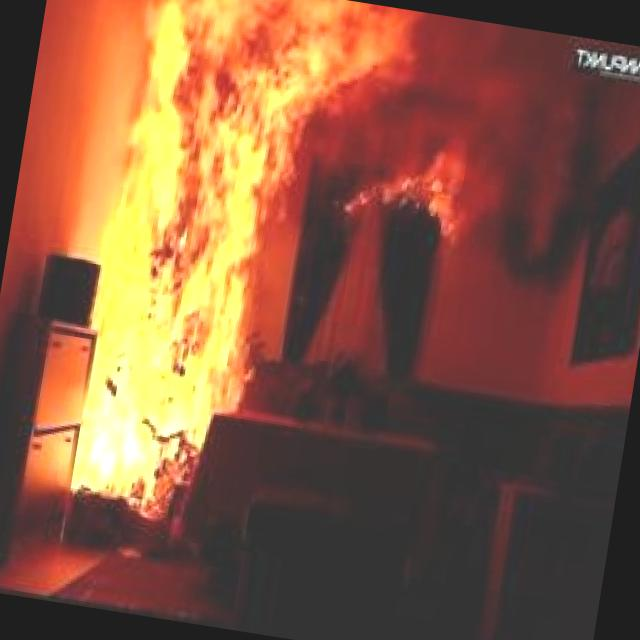fire: (0, 0, 421, 537)
